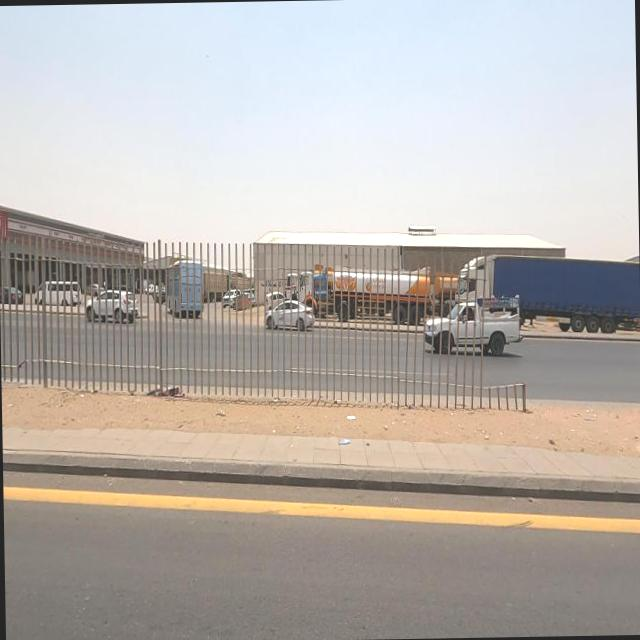debris: (119, 362, 213, 431), (305, 412, 372, 476), (198, 378, 250, 443), (323, 392, 366, 434)
